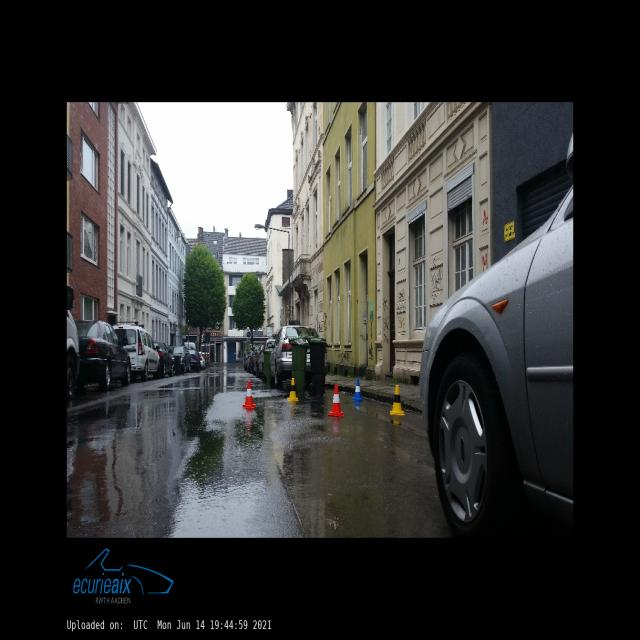blue_cone: (352, 379, 363, 400)
orange_cone: (328, 385, 343, 415), (242, 381, 256, 407)
yellow_cone: (390, 386, 405, 414), (287, 378, 299, 400)
